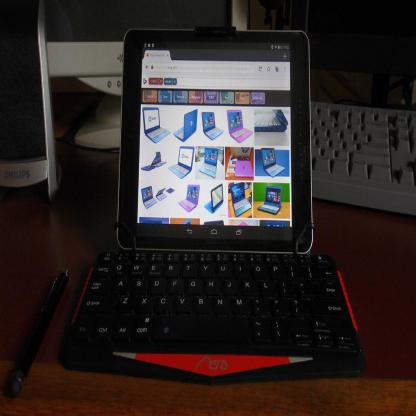board: (58, 26, 366, 386)
